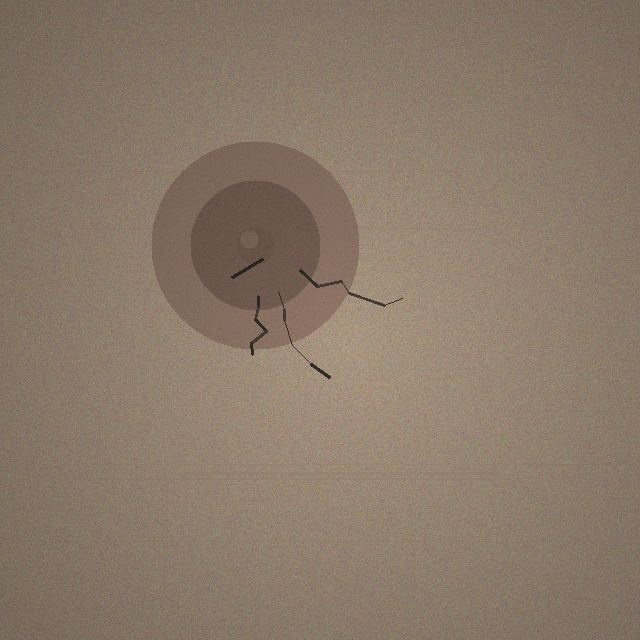crack: (151, 141, 359, 349)
